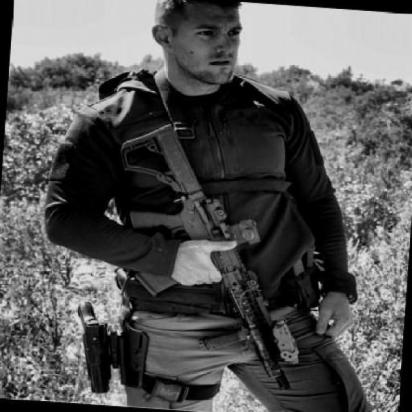Gun: (129, 121, 286, 375)
